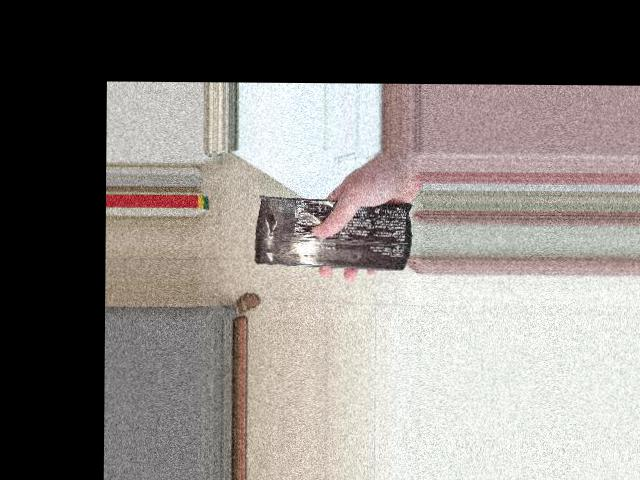chocolate: (250, 196, 411, 275)
